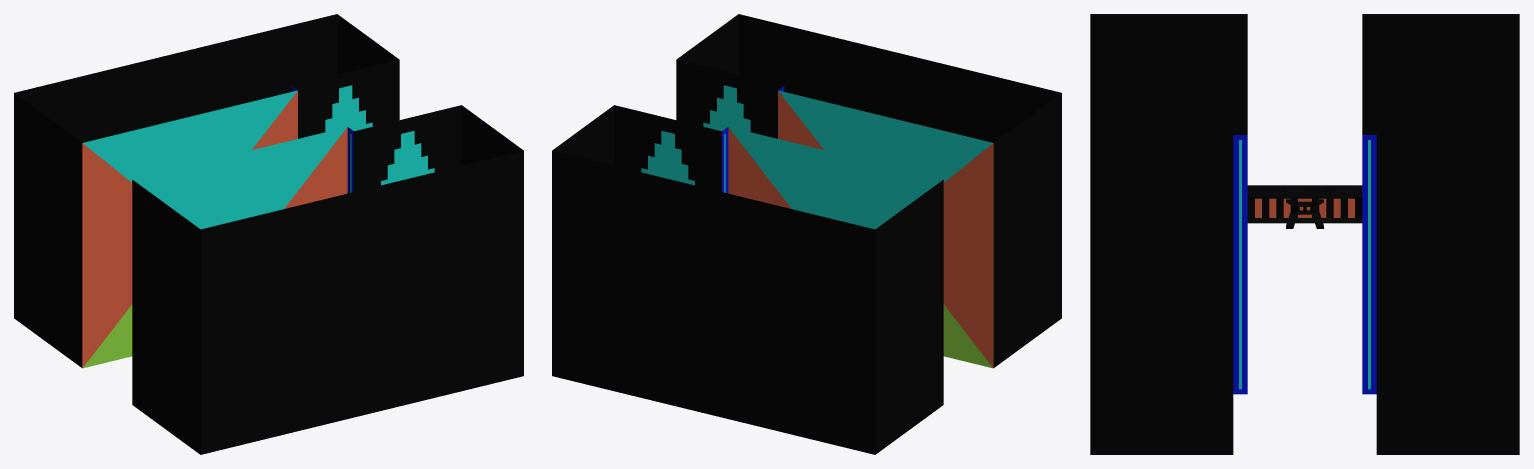
Rendered from wallBlock0.fbx.
3 renders of one model, left to right at view 1: azimuth 30°, elevation 25°; view 2: azimuth 150°, elevation 25°; view 3: azimuth 270°, elevation 25°, orthographic. The views are drawn at different scales.
Parts seen in each view (by area): view 1: Cube; view 2: Cube; view 3: Cube.
Boxes of the visible parts, x1,y1,x2,y2 form: Cube: (14, 14, 523, 454); Cube: (552, 14, 1061, 454); Cube: (1090, 14, 1519, 454).
Size of the model in its own units: 300 by 200 by 300.
